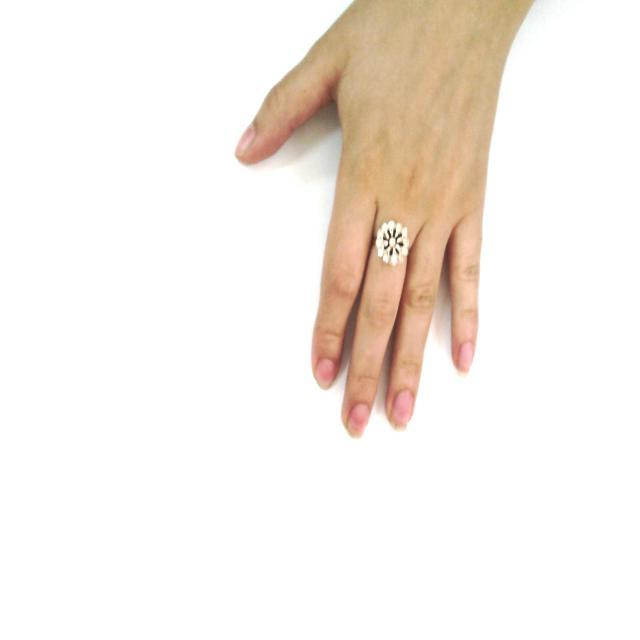Fingernail: (392, 391, 413, 429), (349, 404, 369, 438), (236, 126, 254, 154), (317, 359, 334, 388), (459, 343, 473, 375)
